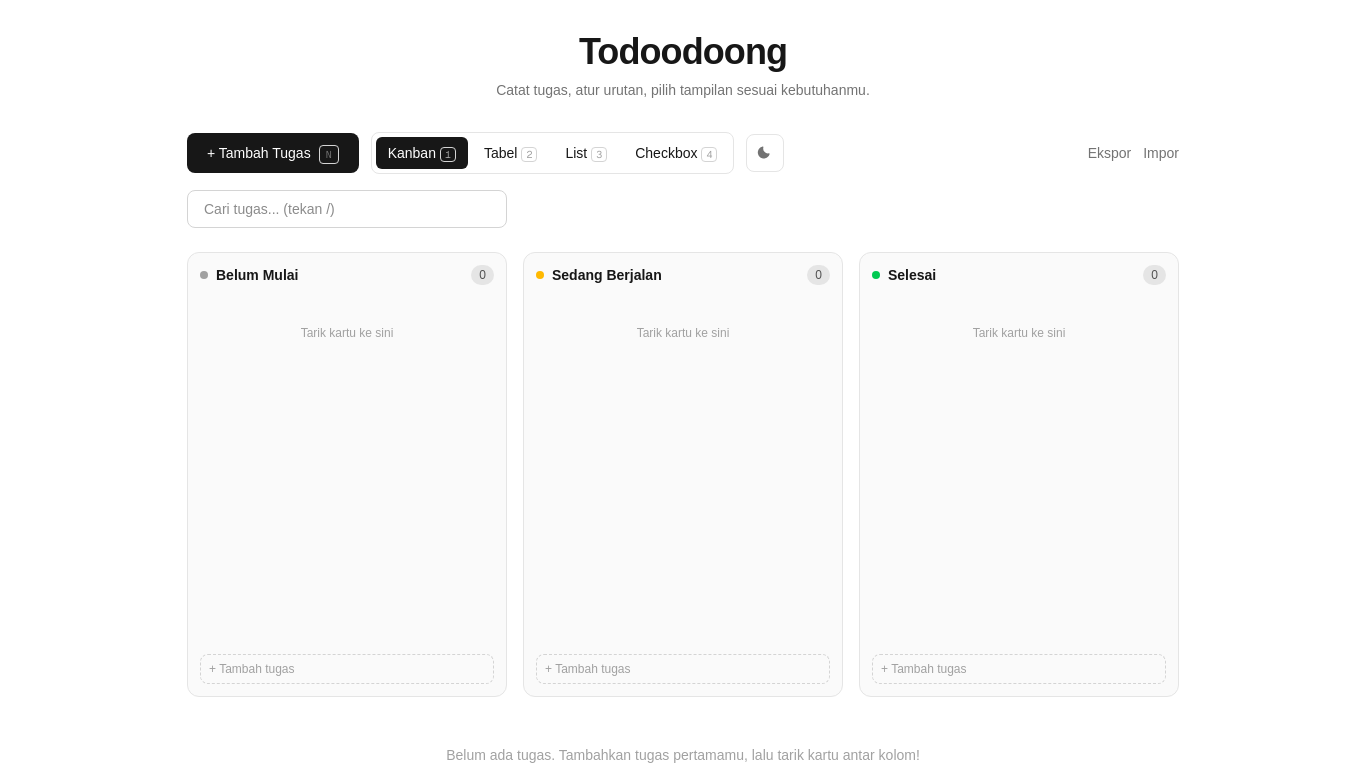
TodoApp alur inti › menambah tugas lewat form
Click the button "+ Tambah Tugas".
click(273, 153)  # box [187,133,359,173]
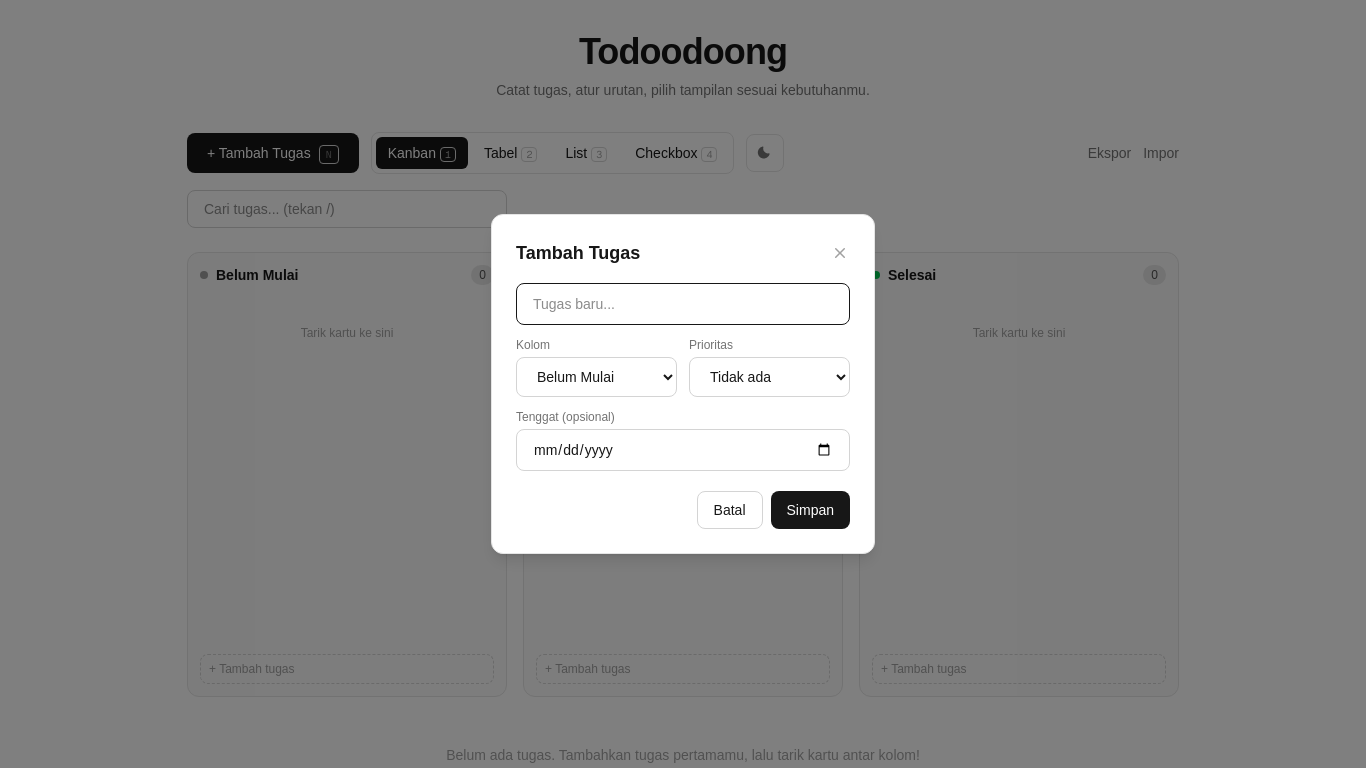
Type "Belanja" into the field with placeholder "Tugas baru...".
click(683, 304); type("Belanja")  # box [516,283,850,325]
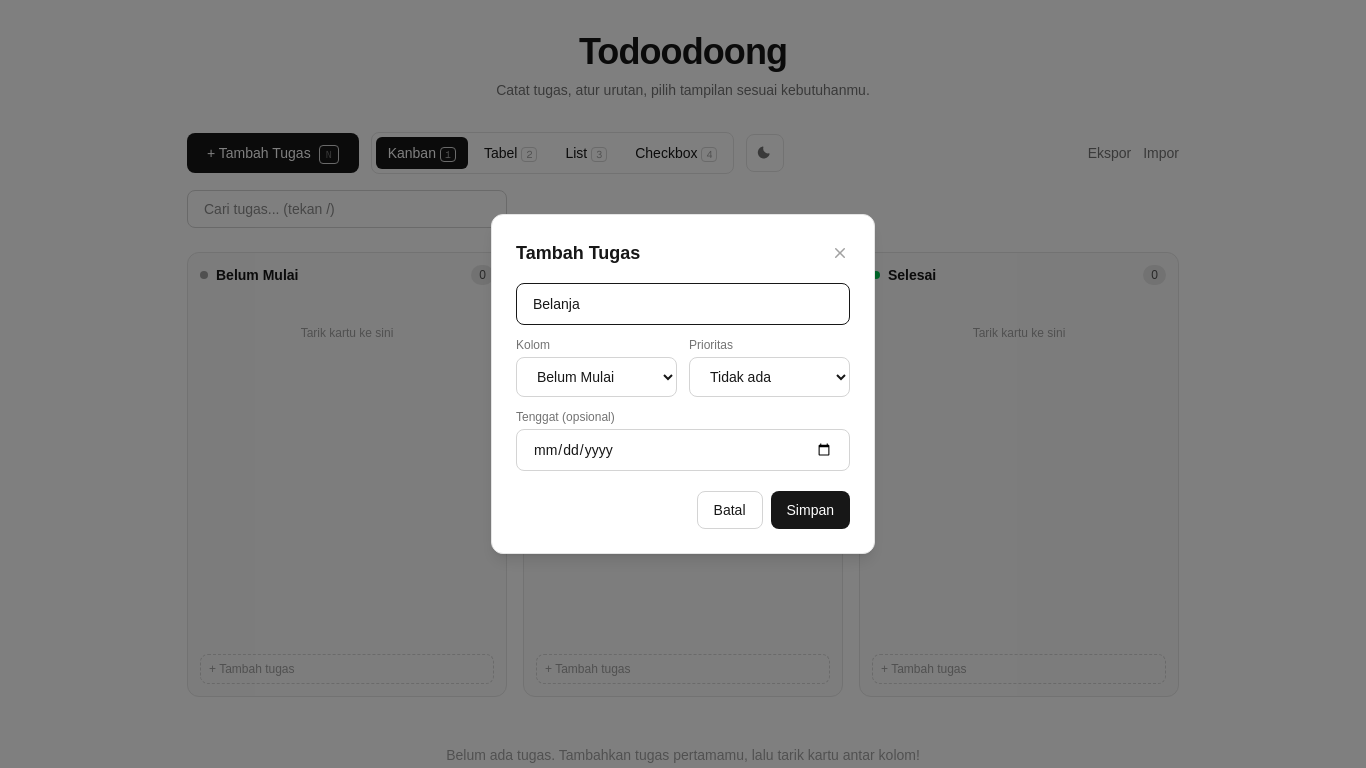
Click the button "Simpan".
click(810, 510)  # box [770,491,850,529]
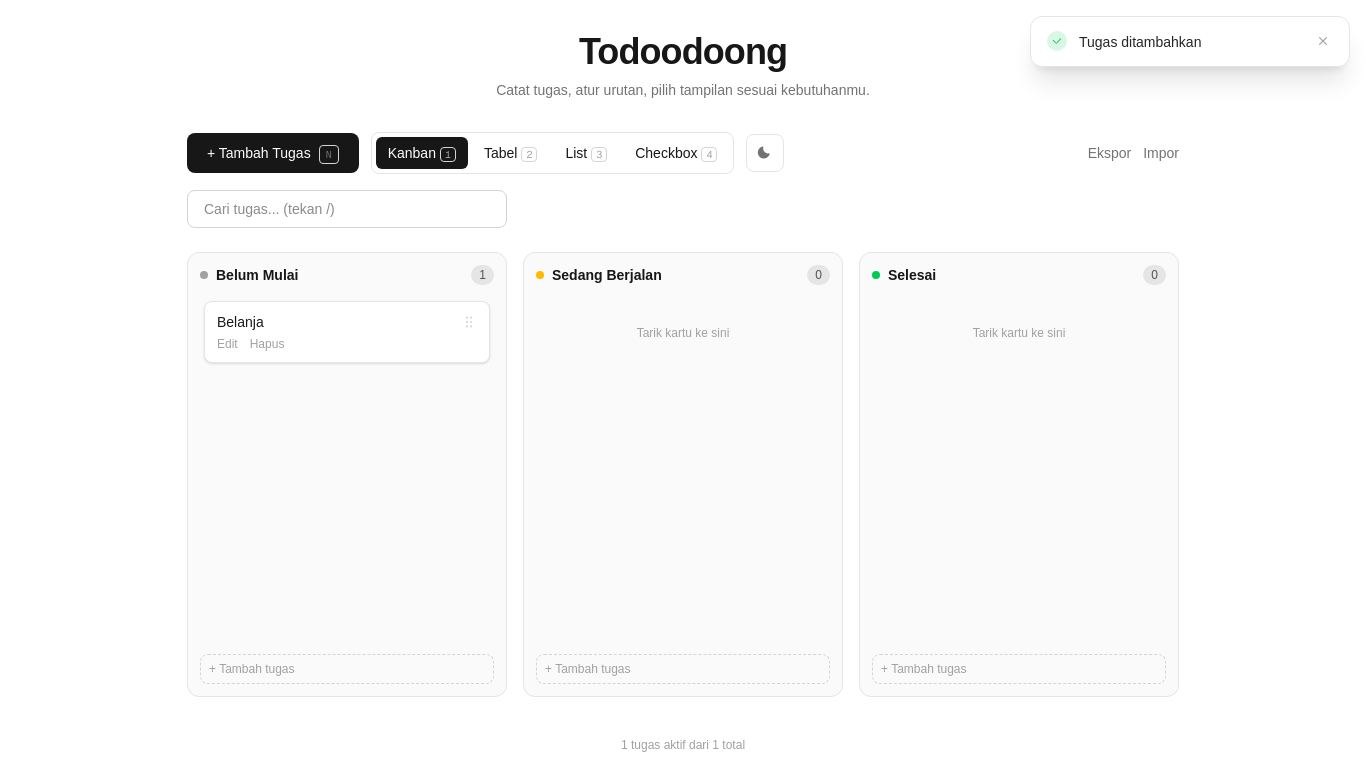
Result: the text "Tugas ditambahkan" is shown at [1079,34,1202,50]
Result: the text "Belanja" is shown at [217,314,264,330]
Result: the button "Simpan" is gone
